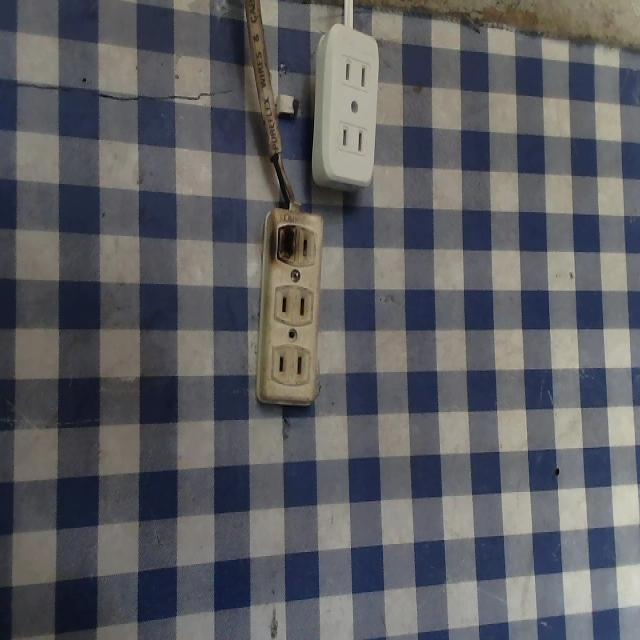-: (274, 213, 299, 266)
